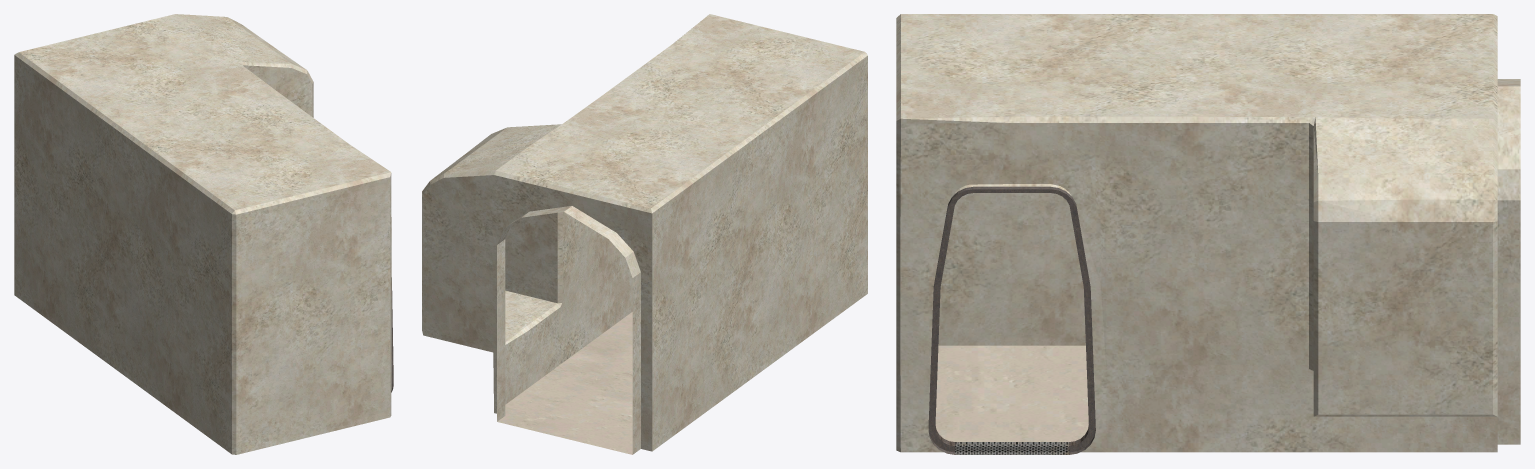
File: thm_tato_house_sml_s01_fp1_r2_hall1_mesh_r2.fbx
The picture shows the model from 3 angles, left to right: view 1: azimuth 30°, elevation 25°; view 2: azimuth 150°, elevation 25°; view 3: azimuth 270°, elevation 25°; orthographic projection. The views are drawn at different scales.
Parts seen in each view (by area): view 1: mesh_node; view 2: mesh_node; view 3: mesh_node.
Boxes of the visible parts, <box> form: mesh_node: <box>14,14,393,454</box>; mesh_node: <box>422,14,867,454</box>; mesh_node: <box>896,14,1520,454</box>.
Bounding box in the file's own units: 4.02 × 4 × 6.79.
